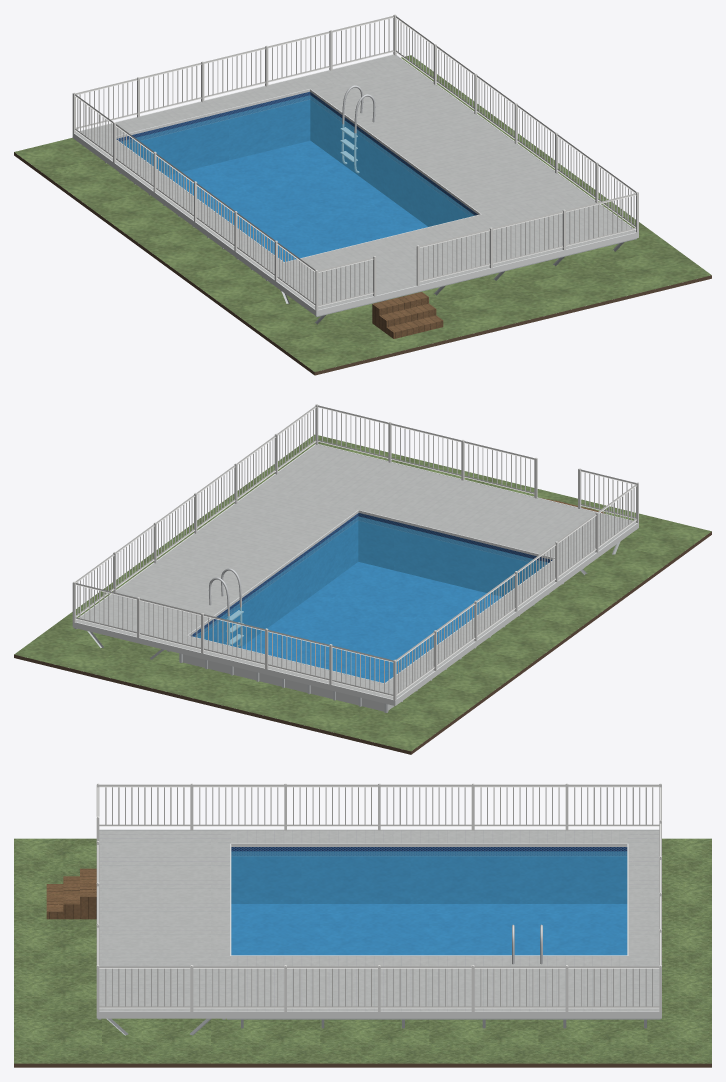
Rendered from kayak-pool-16x24-white-endside-rec-fence.e39d525859.glb.
3 views of the same model, one above another, from view 1: azimuth 30°, elevation 25°; view 2: azimuth 150°, elevation 25°; view 3: azimuth 270°, elevation 25° (orthographic). The views are drawn at different scales.
Parts seen in each view (by area): view 1: deck, ground, water, fence, liner_floor, liner_wall, fascia, soil, steps, steel, stud; view 2: deck, ground, water, fence, liner_floor, liner_wall, fascia, soil, wall, steel; view 3: deck, ground, water, liner_wall, liner_floor, fence, fascia, soil, steps, stud.
Part boxes in pixels (x1,y1,x2,y2): deck: (75, 55, 635, 309); ground: (14, 55, 711, 371); water: (121, 95, 474, 261); fence: (72, 14, 638, 310); liner_floor: (167, 141, 427, 261); liner_wall: (116, 91, 477, 226); fascia: (72, 54, 638, 316); soil: (14, 152, 711, 375); steps: (372, 292, 443, 338); steel: (340, 85, 375, 173); stud: (262, 238, 637, 324); deck: (76, 444, 635, 699); ground: (14, 434, 711, 751); water: (194, 516, 548, 682); fence: (72, 404, 638, 700); liner_floor: (242, 562, 501, 682); liner_wall: (191, 513, 552, 647); fascia: (72, 444, 638, 705); soil: (14, 531, 711, 754); wall: (182, 654, 394, 711); steel: (208, 568, 243, 647); deck: (99, 830, 659, 1011); ground: (14, 838, 711, 1063); water: (231, 851, 627, 955); liner_wall: (231, 847, 627, 903); liner_floor: (231, 904, 627, 955); fence: (96, 783, 661, 1011); fascia: (96, 829, 661, 1018); soil: (14, 1063, 711, 1067); steps: (46, 868, 96, 919); stud: (98, 1018, 660, 1035).
Bounding box in the file's own units: 9.75 × 2.15 × 12.79.
Materials: 13 (5 with a texture image).
